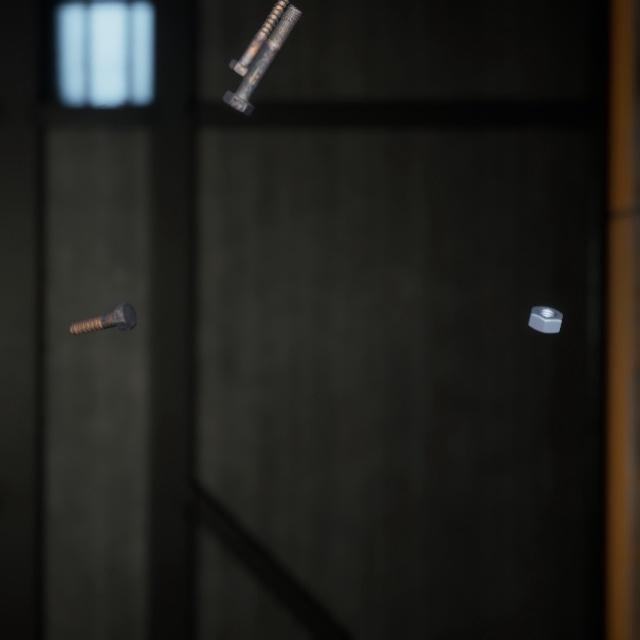bolt: (218, 0, 306, 109), (224, 0, 288, 72), (65, 279, 141, 321)
nut: (523, 283, 567, 319)
